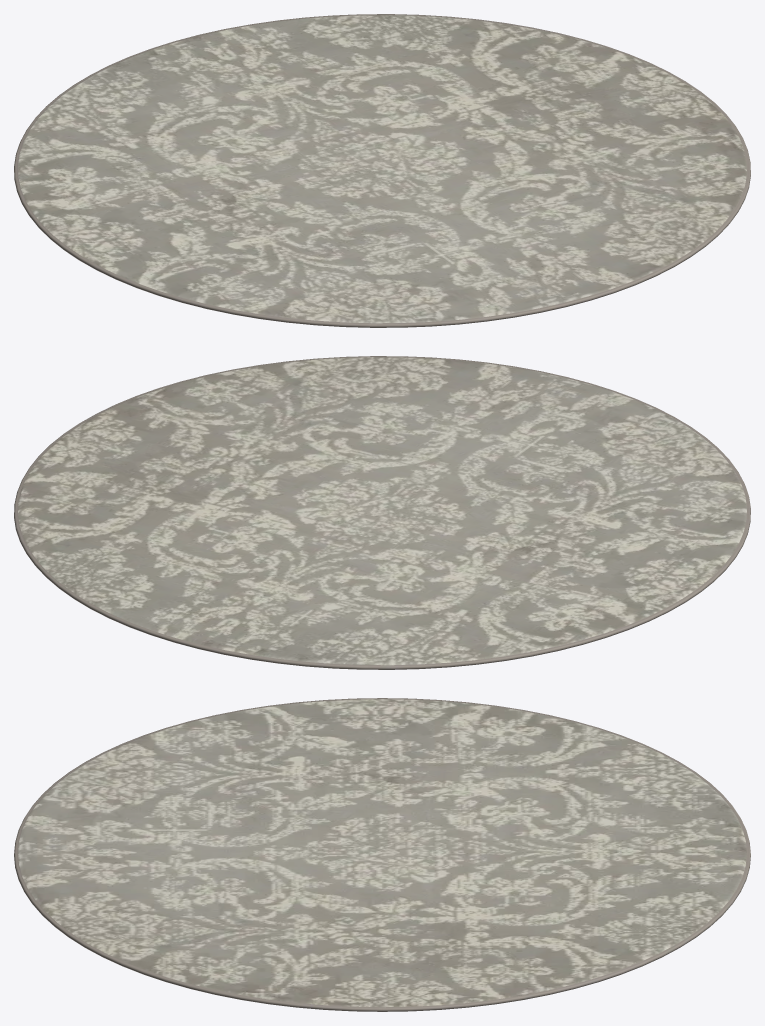
The model's file is B07QGG5NFC.glb.
The picture shows the model from 3 angles, top to bottom: view 1: azimuth 30°, elevation 25°; view 2: azimuth 150°, elevation 25°; view 3: azimuth 270°, elevation 25°; orthographic projection.
Visible parts, largest first — view 1: RootNode; view 2: RootNode; view 3: RootNode.
Part boxes in pixels (x1,y1,x2,y2): RootNode: (14,14,750,327); RootNode: (14,356,750,669); RootNode: (14,698,750,1011).
Bounding box in the file's own units: 1.59 × 0.0119 × 1.59.
Materials: 1 (1 with a texture image).
